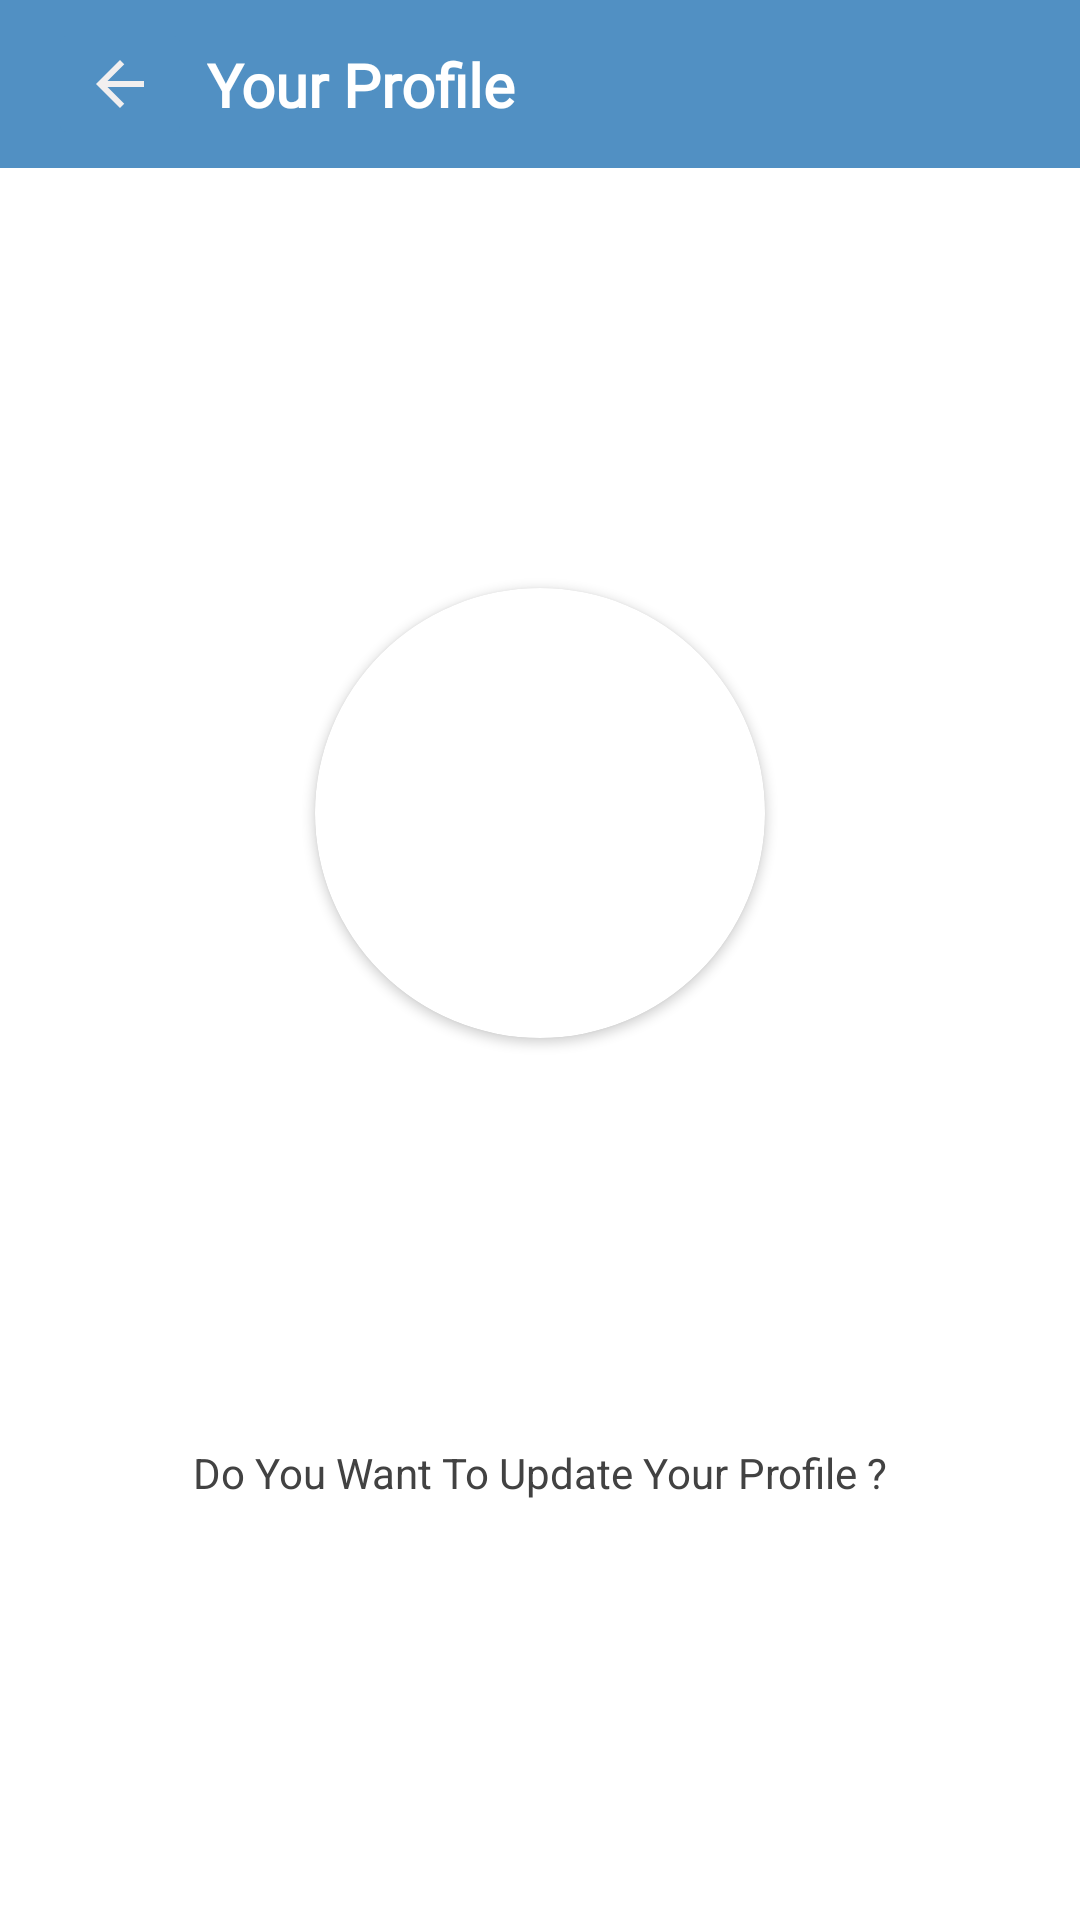

Locate icon controls on the screen. Image size 1080 x 1920, boxes as (x1, y1, x2, y2).
arrow back: (96, 60, 144, 108)
